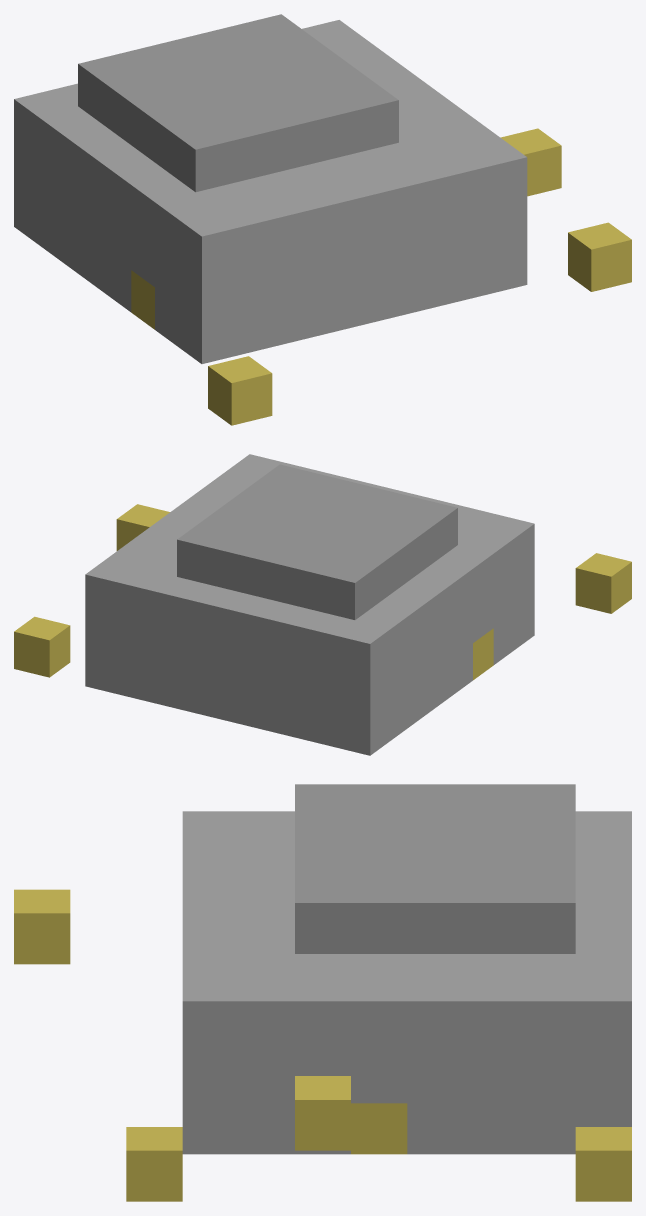
File: veta_oro_02.glb
The picture shows the model from 3 angles, top to bottom: view 1: azimuth 30°, elevation 25°; view 2: azimuth 150°, elevation 25°; view 3: azimuth 270°, elevation 25°; orthographic projection. The views are drawn at different scales.
Visible parts, largest first — view 1: veta_oro_02; view 2: veta_oro_02; view 3: veta_oro_02.
Part boxes in pixels (box(x1,y1,x2,y2)): veta_oro_02: box(14, 14, 631, 425); veta_oro_02: box(14, 454, 631, 755); veta_oro_02: box(14, 784, 631, 1201).
Bounding box in the file's own units: 1.1 × 0.4 × 1.1.
